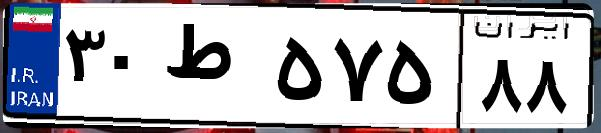0: (110, 28, 158, 98)
3: (57, 26, 110, 100)
5: (270, 28, 330, 110), (385, 28, 445, 110)
7: (330, 28, 385, 110)
8: (475, 38, 525, 113), (525, 38, 570, 115)
ط: (158, 20, 270, 120)
